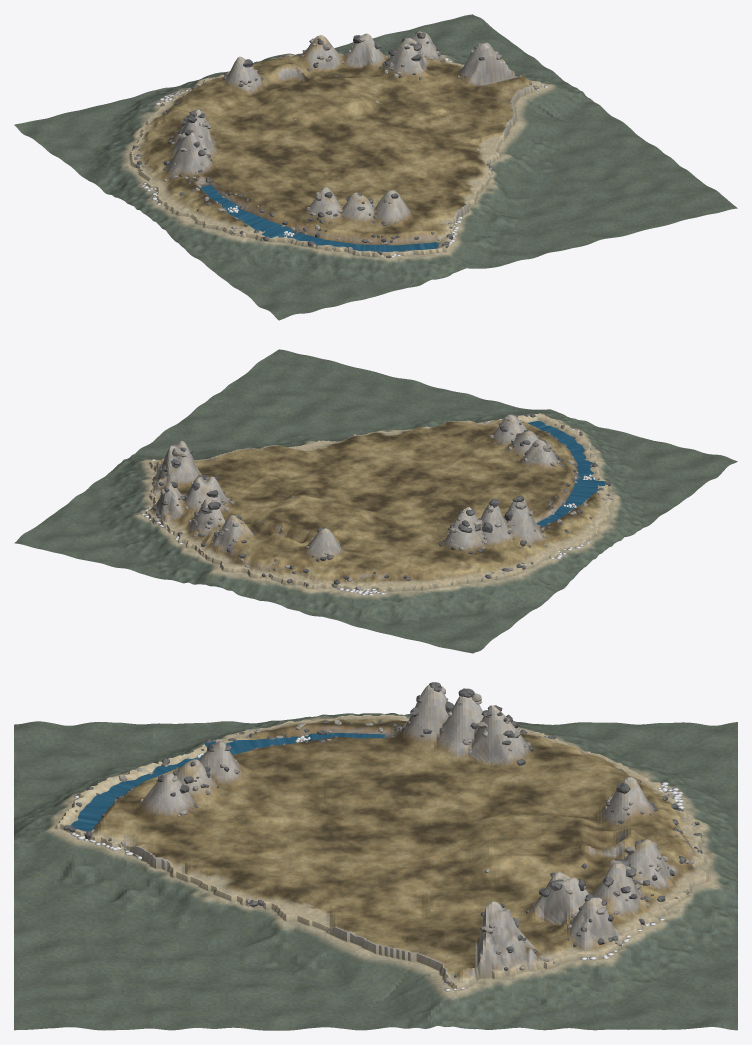
The model's file is Terrain_P1.fbx.
3 views of the same model, one above another, from view 1: azimuth 30°, elevation 25°; view 2: azimuth 150°, elevation 25°; view 3: azimuth 270°, elevation 25° (orthographic). The views are drawn at different scales.
Parts seen in each view (by area): view 1: Ground, River; view 2: Ground, River; view 3: Ground, River, Surf.
Boxes of the visible parts, x1=… form: Ground: x1=14, y1=14, x2=737, y2=320; River: x1=200, y1=185, x2=438, y2=251; Ground: x1=14, y1=349, x2=737, y2=653; River: x1=527, y1=421, x2=606, y2=525; Ground: x1=14, y1=684, x2=737, y2=1030; River: x1=71, y1=733, x2=385, y2=831; Surf: x1=70, y1=714, x2=684, y2=991.
Size of what is drawn, in the model's own units: 64000 by 8739 by 64000.
